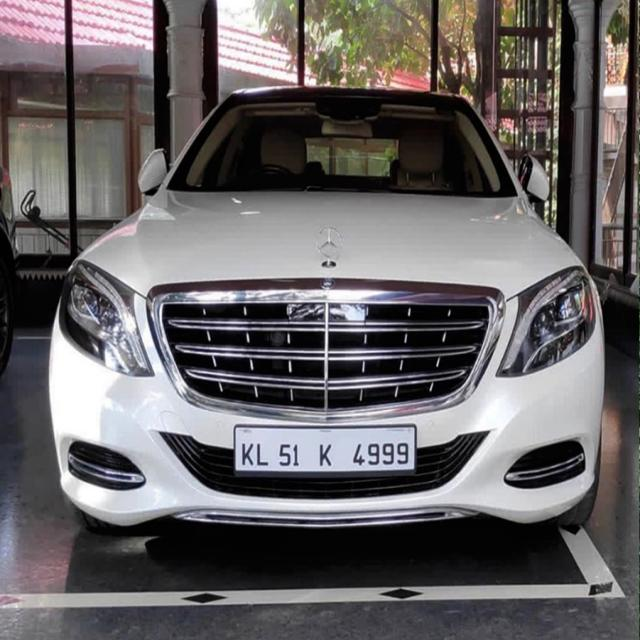num_plate: (203, 384, 455, 534)
number_plate: (233, 434, 419, 471)
